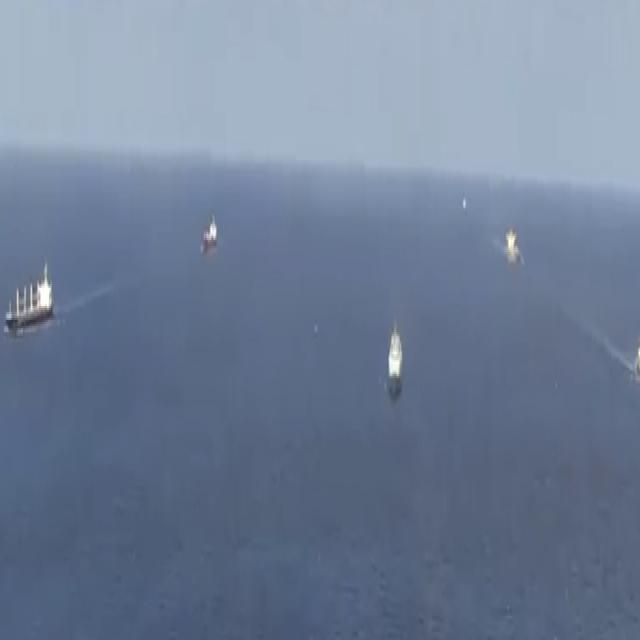cargoship: (4, 254, 52, 348), (385, 318, 403, 398), (199, 204, 221, 260), (503, 222, 523, 274), (631, 328, 640, 402)
